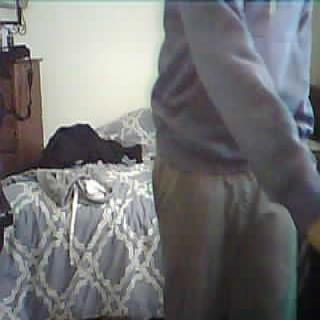Blue Hoodie: (158, 0, 310, 160)
Gray Sweatpants: (154, 164, 296, 317)
